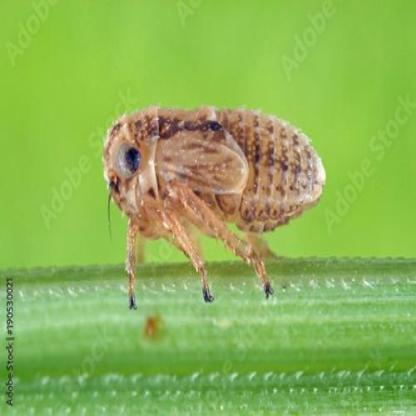brown-planthopper: (102, 106, 326, 311)
